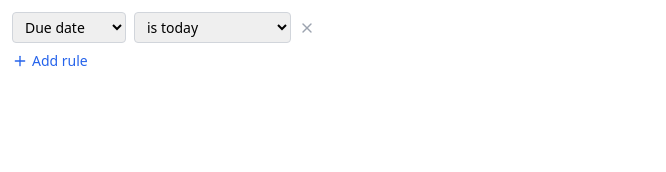
Test: FilterBuilder › shows no value box for operators that need none, and two boxes for "between"
Step 1. Select "between" in the dropdown named "Rule 1 operator" → coordinates (212, 28), box [134, 12, 291, 43]
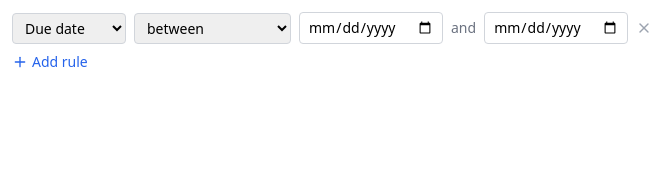
Now the date field named "Rule 1 value" is shown, box [299, 12, 443, 44]
Now the date field named "Rule 1 second value" is shown, box [484, 12, 628, 44]
